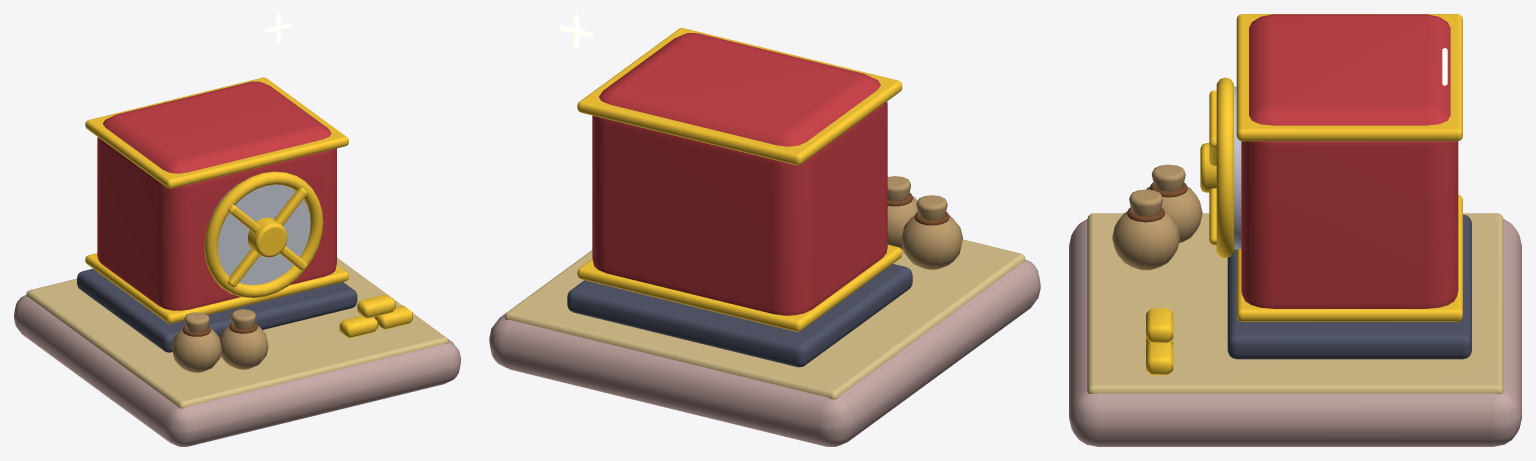
The model's file is c_vault.glb.
3 renders of one model, left to right at view 1: azimuth 30°, elevation 25°; view 2: azimuth 150°, elevation 25°; view 3: azimuth 270°, elevation 25°, orthographic. The views are drawn at different scales.
Visible parts, largest first — view 1: Cube; view 2: Cube; view 3: Cube.
Part boxes in pixels (<box>): Cube: <box>14,14,460,446</box>; Cube: <box>489,14,1040,446</box>; Cube: <box>1069,14,1521,446</box>.
Size of the model in its own units: 1 by 0.915 by 1.
